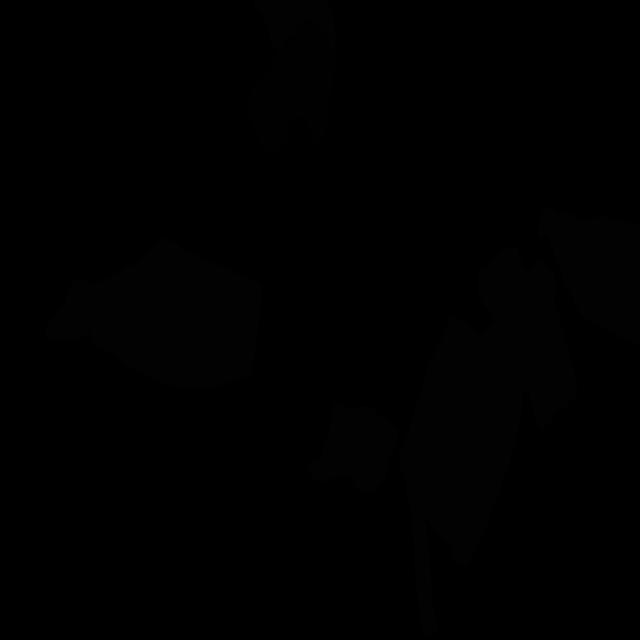cardboard: (398, 316, 534, 638), (44, 237, 262, 391), (478, 247, 578, 431), (538, 208, 640, 346), (307, 402, 398, 493), (252, 0, 336, 52)
rigid_plastic: (246, 19, 335, 156)
